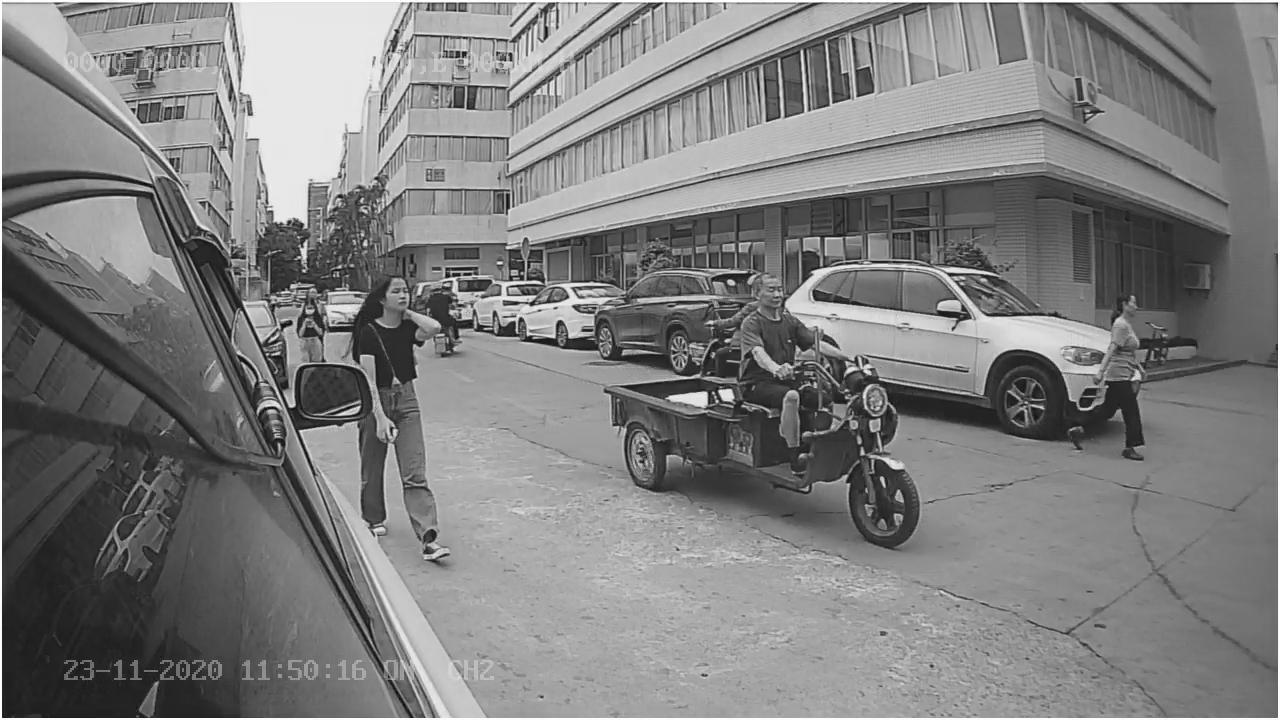person: (1065, 282, 1150, 461), (744, 274, 840, 377), (350, 267, 440, 362)
